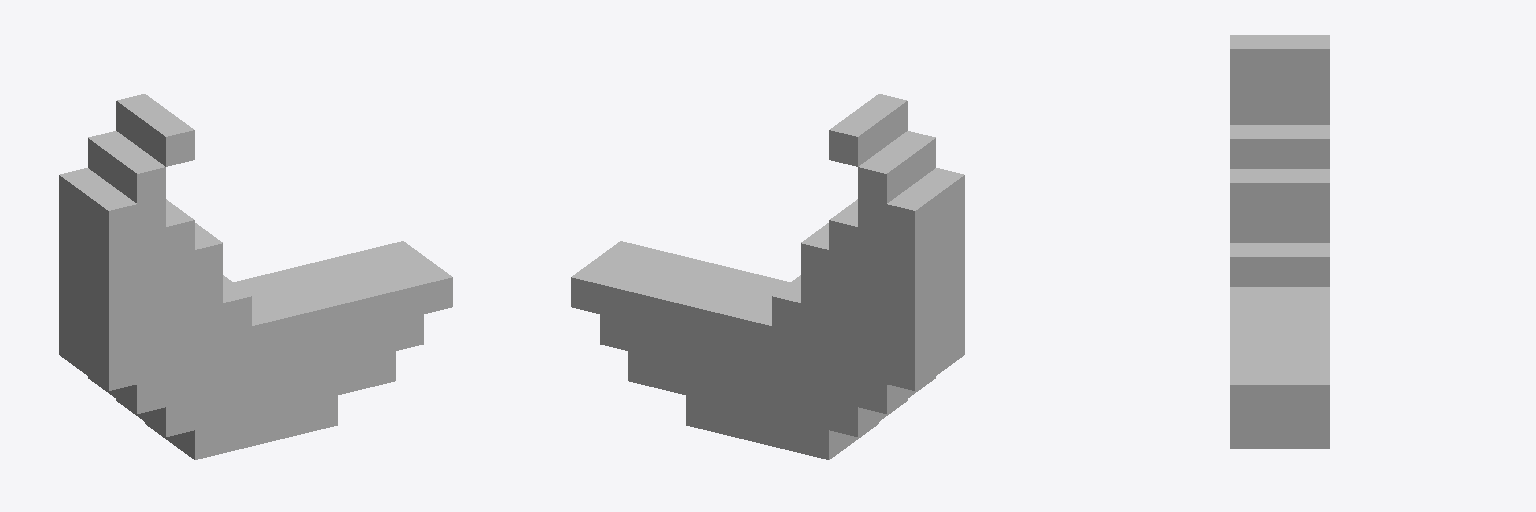
The model's file is banana.obj.
3 views of the same model, side by side, from view 1: azimuth 30°, elevation 25°; view 2: azimuth 150°, elevation 25°; view 3: azimuth 270°, elevation 25° (orthographic).
Visible parts, largest first — view 1: banana; view 2: banana; view 3: banana.
Part boxes in pixels (x1,y1,x2,y2): banana: (59,94,452,459); banana: (571,94,964,459); banana: (1230,35,1329,448).
Bounding box in the file's own units: 12 × 11 × 3.